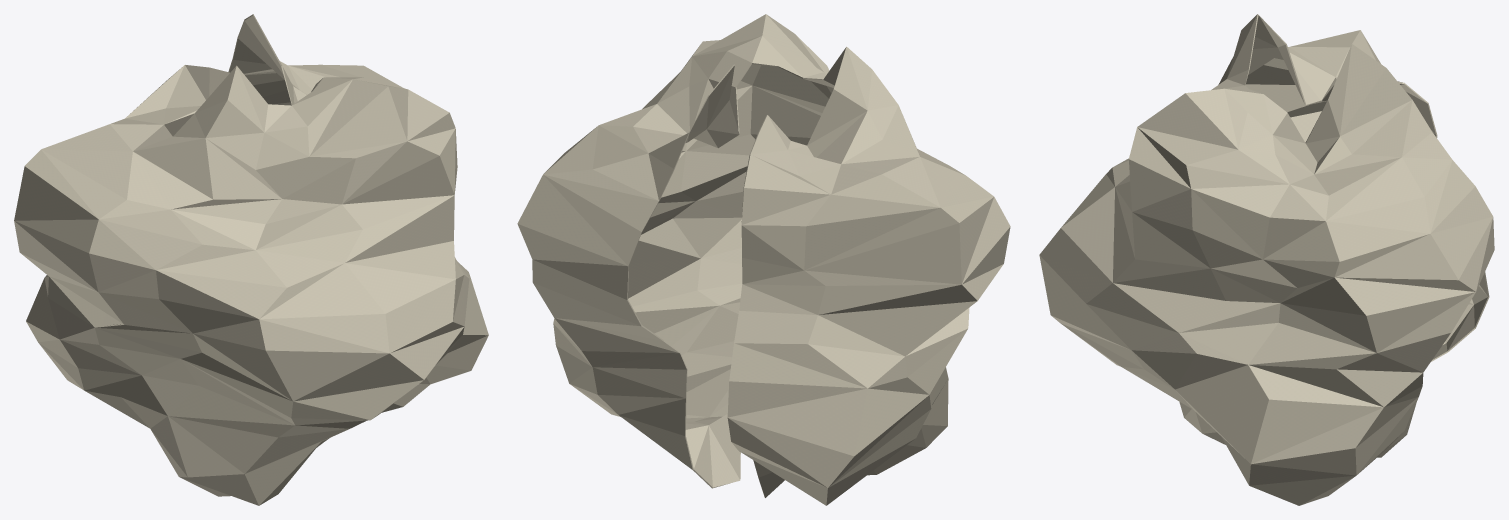
File: D01_PaperBall3.fbx
3 views of the same model, side by side, from view 1: azimuth 30°, elevation 25°; view 2: azimuth 150°, elevation 25°; view 3: azimuth 270°, elevation 25° (orthographic).
Visible parts, largest first — view 1: Body_Mesh; view 2: Body_Mesh; view 3: Body_Mesh.
Part boxes in pixels (bbox=[...]): Body_Mesh: bbox=[14, 14, 488, 505]; Body_Mesh: bbox=[517, 14, 1010, 505]; Body_Mesh: bbox=[1039, 14, 1494, 505].
Size of the model in its own units: 0.0805 by 0.078 by 0.075.
